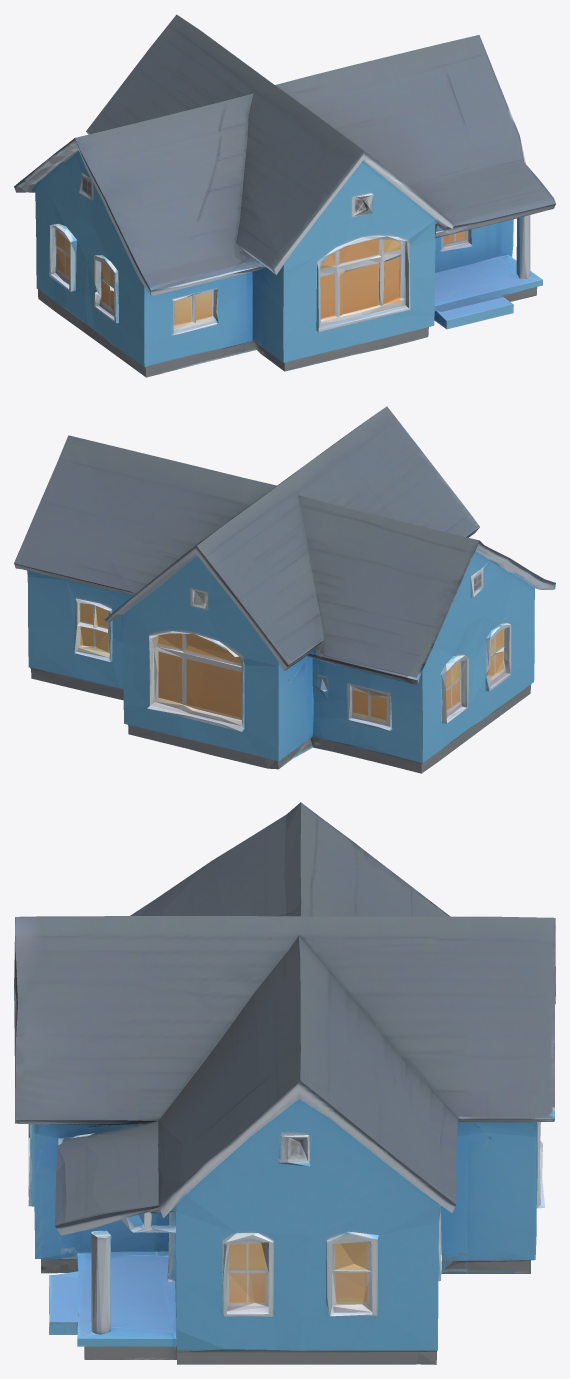
The model's file is BlueHouse.fbx.
3 views of the same model, one above another, from view 1: azimuth 30°, elevation 25°; view 2: azimuth 150°, elevation 25°; view 3: azimuth 270°, elevation 25° (orthographic). The views are drawn at different scales.
Visible parts, largest first — view 1: temp; view 2: temp; view 3: temp.
Part boxes in pixels (x1,y1,x2,y2): temp: (14, 14, 555, 377); temp: (14, 406, 555, 773); temp: (14, 802, 555, 1364).
Size of the model in its own units: 200 by 100 by 161.
1 material, 1 textured.
